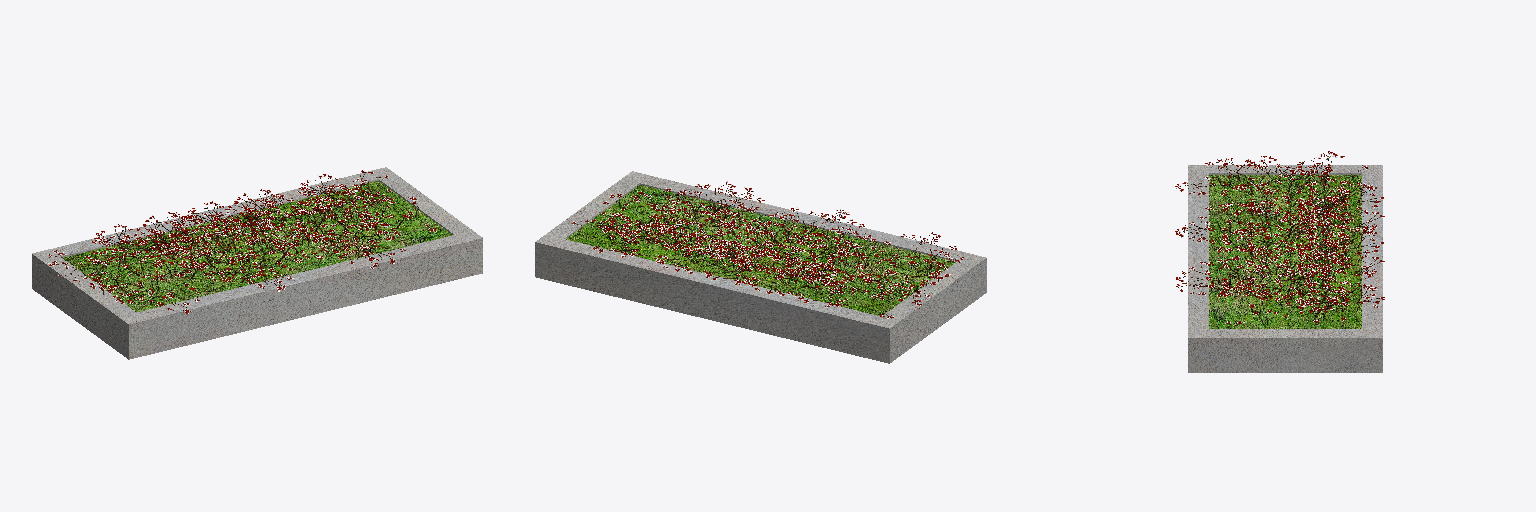
3 renders of one model, left to right at view 1: azimuth 30°, elevation 25°; view 2: azimuth 150°, elevation 25°; view 3: azimuth 270°, elevation 25°, orthographic.
Parts seen in each view (by area): view 1: jardinera; view 2: jardinera; view 3: jardinera.
Part boxes in pixels (x1,y1,x2,y2): jardinera: (32, 167, 482, 359); jardinera: (535, 171, 986, 363); jardinera: (1174, 151, 1385, 372).
Bounding box in the file's own units: 0.9474 × 0.1403 × 0.4786.
4 materials, 4 textured.